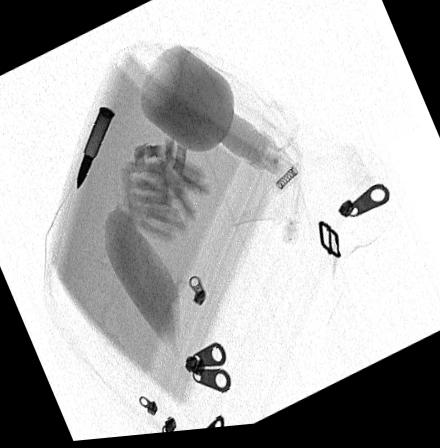Bullet: (75, 109, 115, 193)
